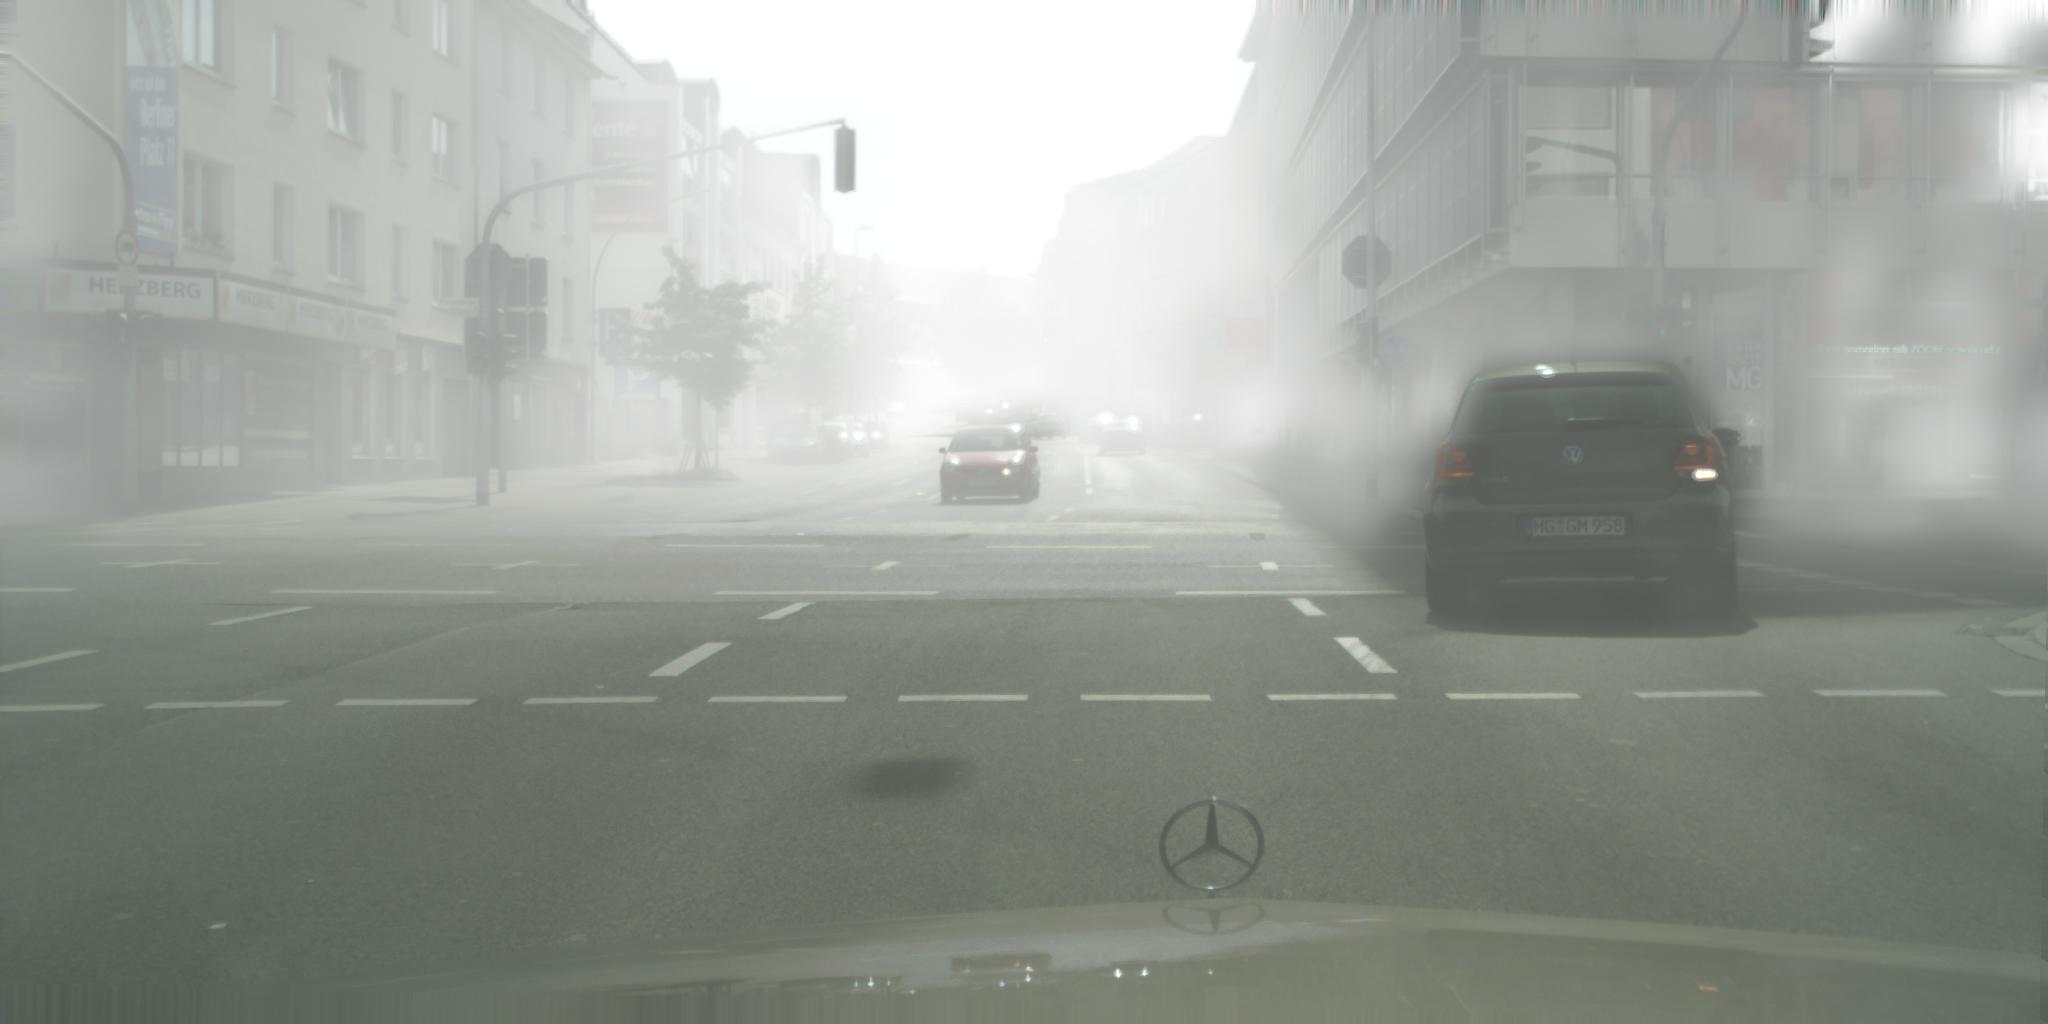car: (1422, 360, 1742, 619), (936, 423, 1042, 505), (1166, 415, 1219, 451), (1100, 419, 1148, 457), (1079, 411, 1125, 445), (1023, 413, 1070, 441), (884, 401, 908, 421), (955, 406, 977, 423)
